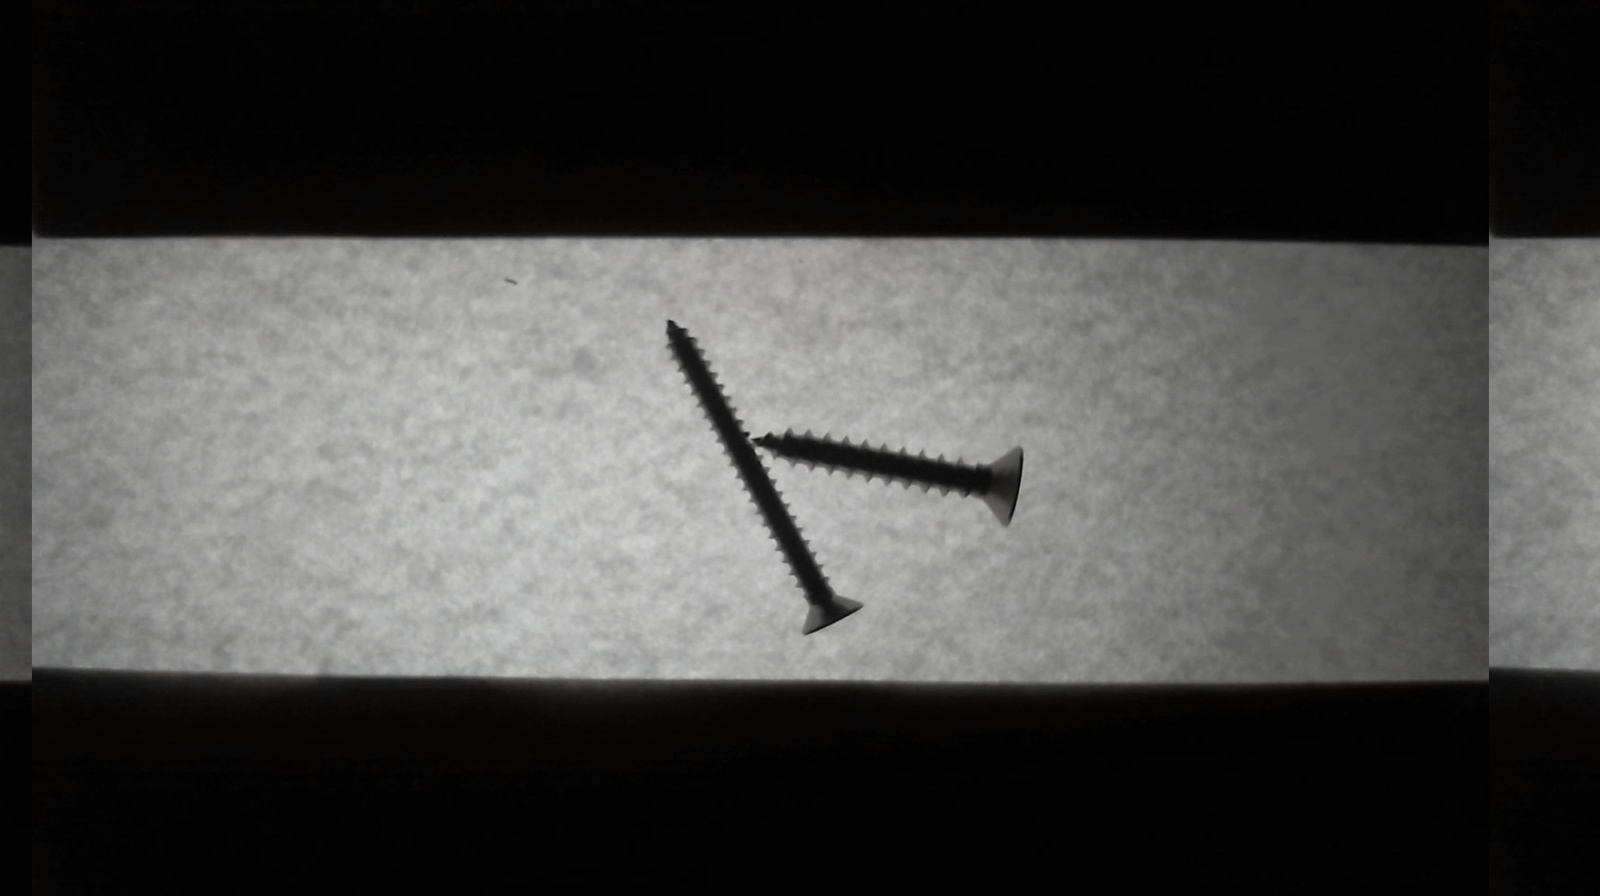S001: (738, 421, 1032, 534)
S002: (647, 301, 868, 641)
